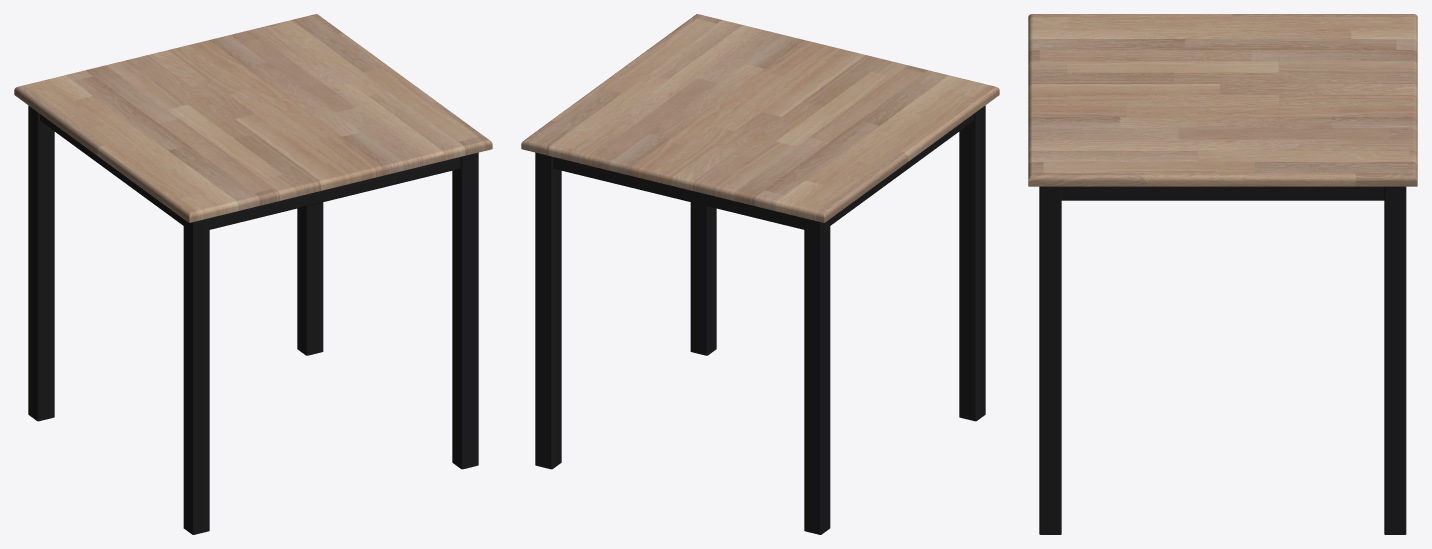
Rendered from table-transformed.glb.
3 views of the same model, side by side, from view 1: azimuth 30°, elevation 25°; view 2: azimuth 150°, elevation 25°; view 3: azimuth 270°, elevation 25° (orthographic). The views are drawn at different scales.
Visible parts, largest first — view 1: Table.001; view 2: Table.001; view 3: Table.001.
Part boxes in pixels (box(x1,y1,x2,y2)): Table.001: box(14, 14, 492, 534); Table.001: box(521, 14, 999, 534); Table.001: box(1028, 14, 1417, 534).
Bounding box in the file's own units: 12.71 × 13.08 × 12.71.
2 materials, 1 textured.
